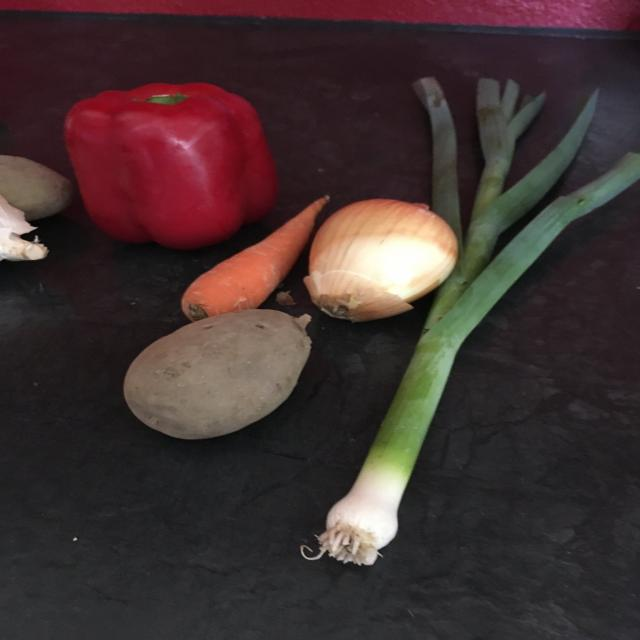Carrot: (178, 190, 332, 322)
Potato: (122, 308, 320, 448)
